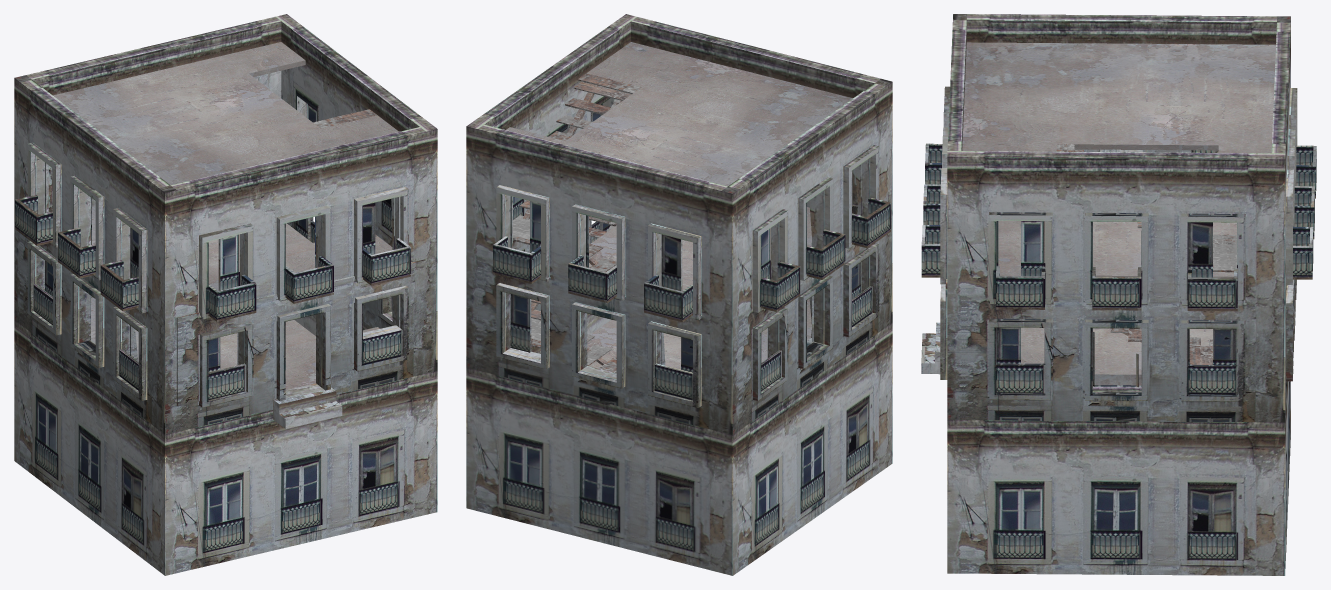
The model's file is BagBuilding22_200.fbx.
3 renders of one model, left to right at view 1: azimuth 30°, elevation 25°; view 2: azimuth 150°, elevation 25°; view 3: azimuth 270°, elevation 25°, orthographic. The views are drawn at different scales.
Visible parts, largest first — view 1: main200, floorsa200; view 2: main200, floorsa200, stairsA200; view 3: main200, floorsa200, stairsA200.
Part boxes in pixels (left/top/right/bottom): main200: left=14, top=14, right=437, bottom=575; floorsa200: left=53, top=42, right=398, bottom=390; main200: left=466, top=14, right=892, bottom=575; floorsa200: left=506, top=42, right=852, bottom=373; stairsA200: left=513, top=73, right=641, bottom=372; main200: left=921, top=14, right=1316, bottom=575; floorsa200: left=962, top=42, right=1275, bottom=385; stairsA200: left=1056, top=144, right=1236, bottom=364.
Bounding box in the file's own units: 19.65 × 22.81 × 19.63.
